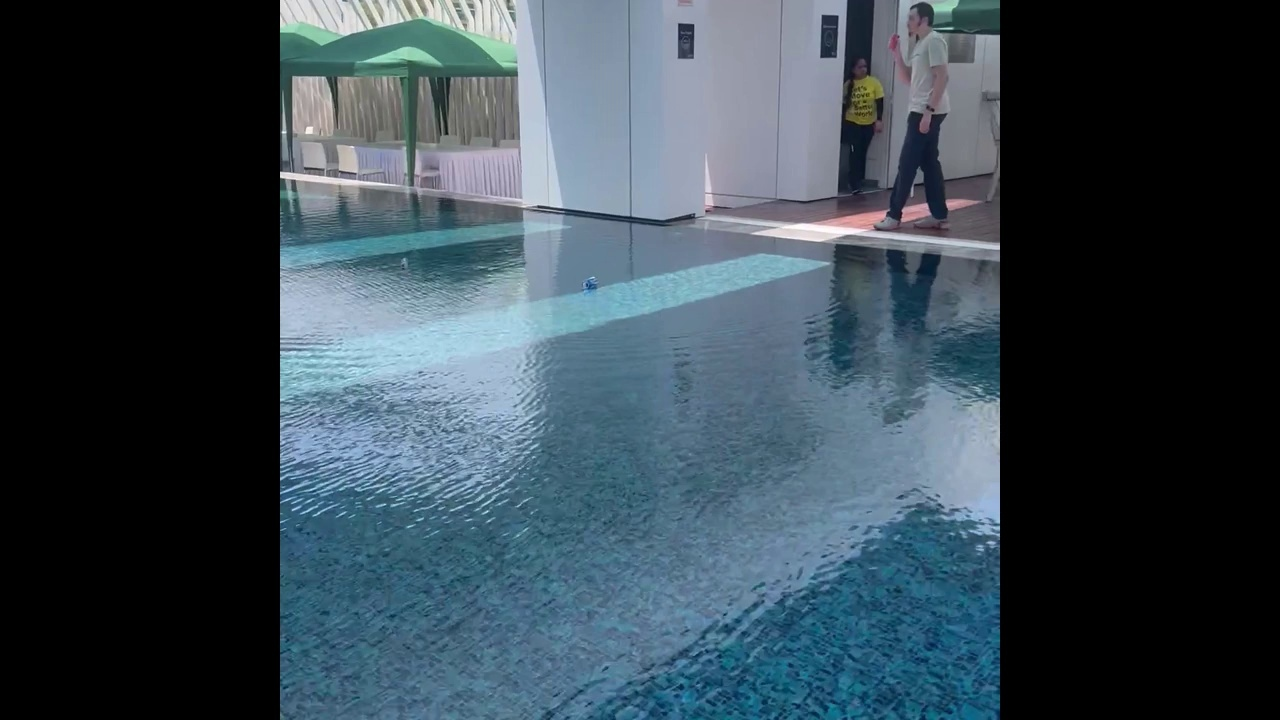debris: (575, 274, 600, 293), (885, 33, 903, 50), (398, 255, 410, 270)
